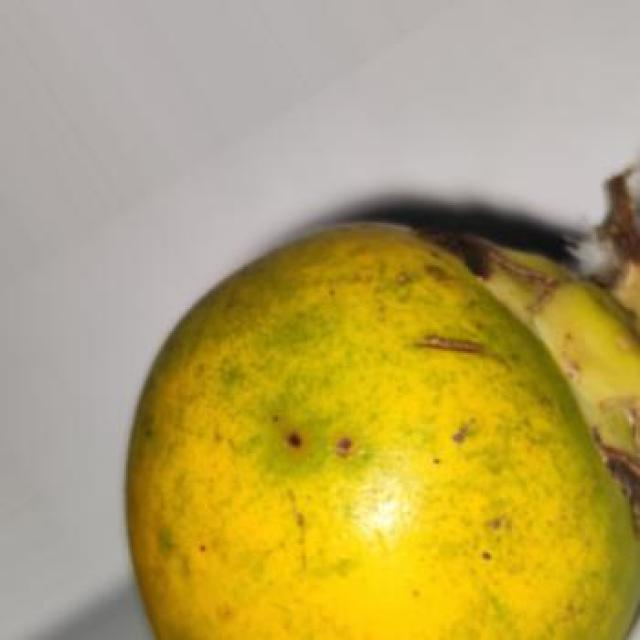damaged: (124, 223, 638, 638)
